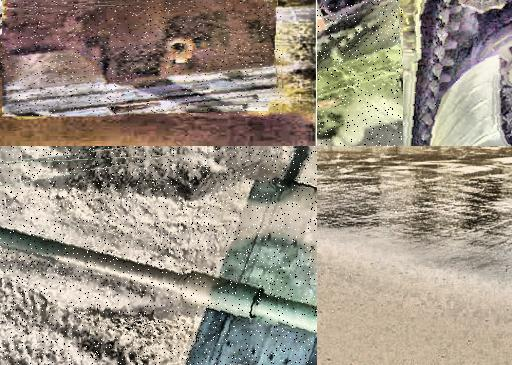tanks: (1, 147, 318, 365), (2, 1, 282, 117), (318, 1, 496, 147), (404, 1, 512, 147)
